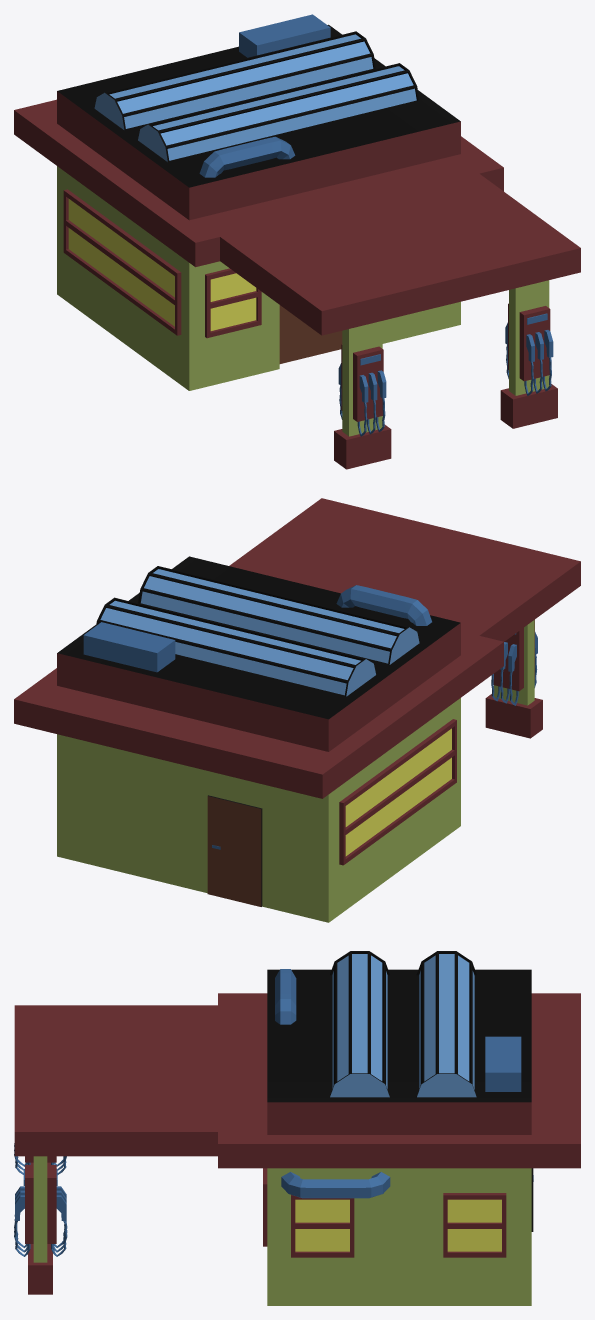
Rendered from Target_Building_9.FBX.
The picture shows the model from 3 angles, top to bottom: view 1: azimuth 30°, elevation 25°; view 2: azimuth 150°, elevation 25°; view 3: azimuth 270°, elevation 25°; orthographic projection.
Visible parts, largest first — view 1: Object002; view 2: Object002; view 3: Object002.
Boxes of the visible parts, x1,y1,x2,y2 form: Object002: (14, 14, 580, 469); Object002: (14, 498, 580, 922); Object002: (14, 951, 580, 1305).
Size of the model in its own units: 165 by 114 by 257.
